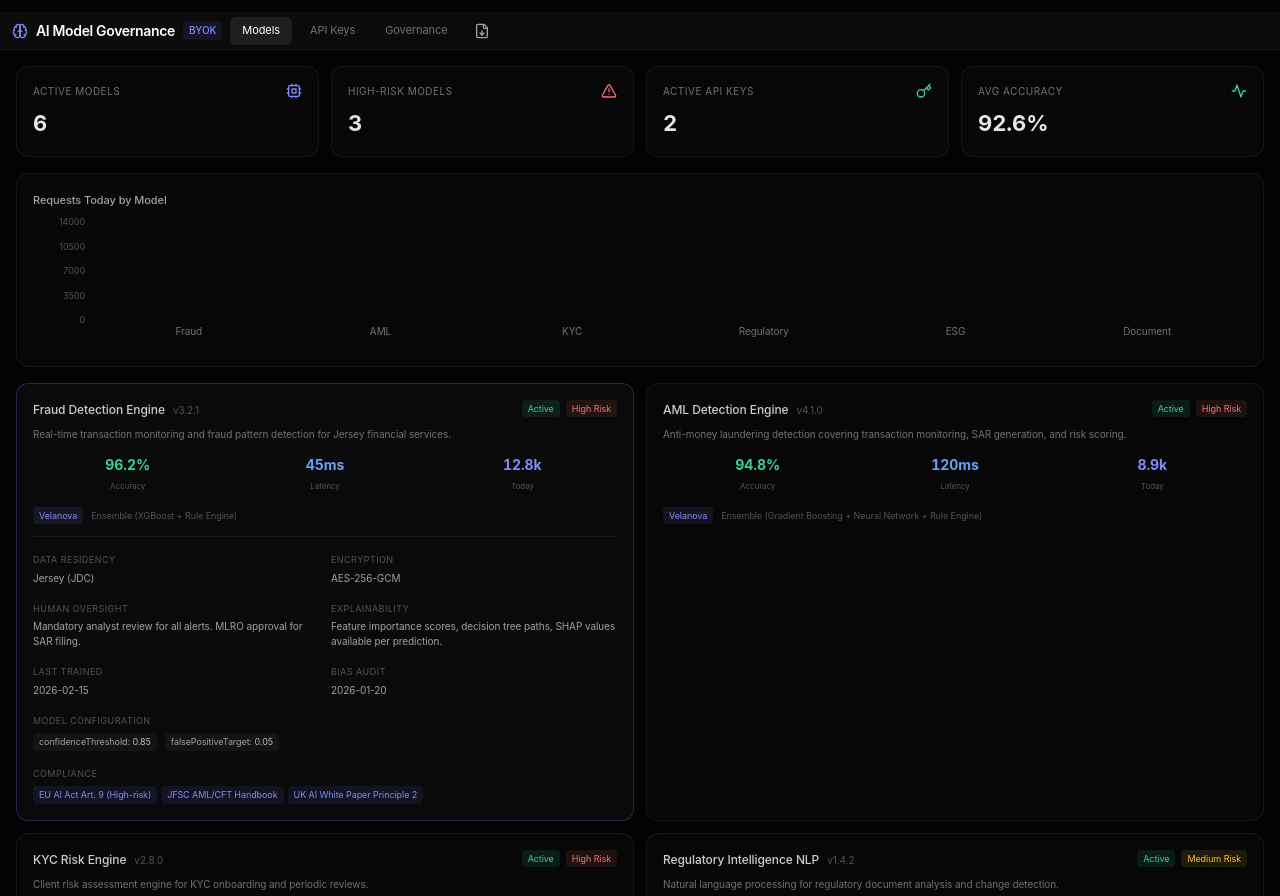
Test: BYOKConfigPage › switches to Governance view
Click the button "Governance" at (416, 30), box [373, 16, 460, 44]
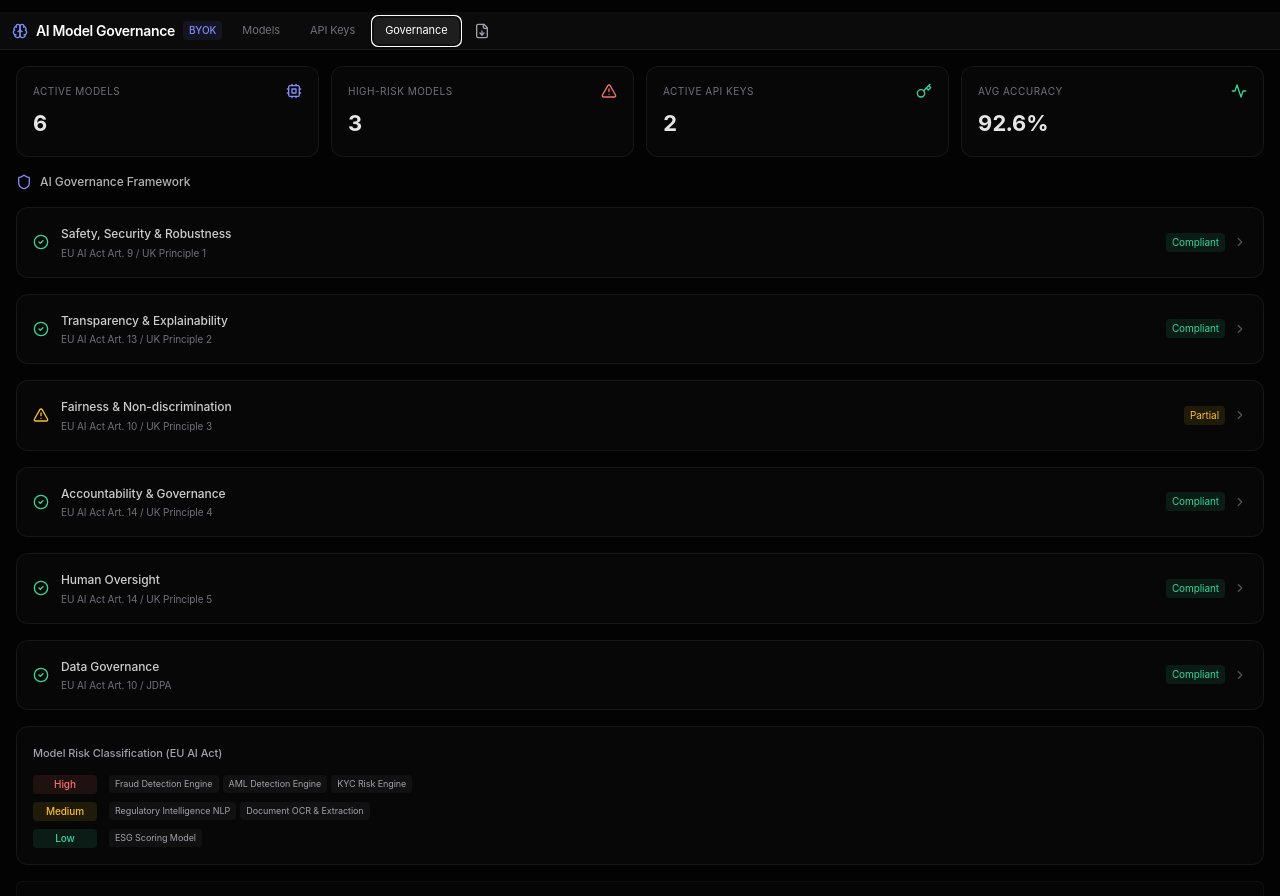
Expected: the text "AI Governance Framework" is shown, [40, 173, 190, 191]
